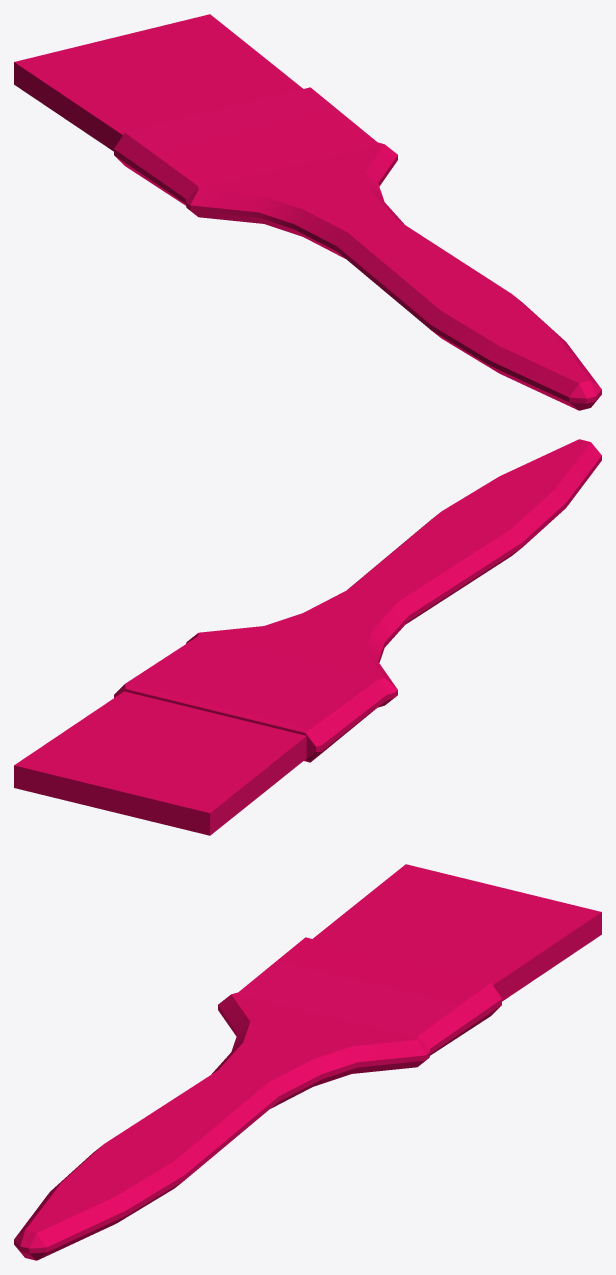
File: Brush_01_Lod0.fbx
3 renders of one model, top to bottom at view 1: azimuth 30°, elevation 25°; view 2: azimuth 150°, elevation 25°; view 3: azimuth 330°, elevation 25°, orthographic.
Visible parts, largest first — view 1: Brush_01_Lod0; view 2: Brush_01_Lod0; view 3: Brush_01_Lod0.
Part boxes in pixels (x1,y1,x2,y2): Brush_01_Lod0: (14, 14, 601, 410); Brush_01_Lod0: (14, 439, 601, 835); Brush_01_Lod0: (14, 864, 601, 1260).
Size of the model in its own units: 11.63 by 1.79 by 46.46.
